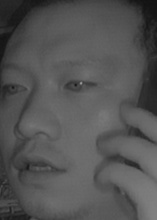eye: (63, 75, 95, 95), (4, 80, 29, 96)
mouth: (12, 146, 74, 188)
